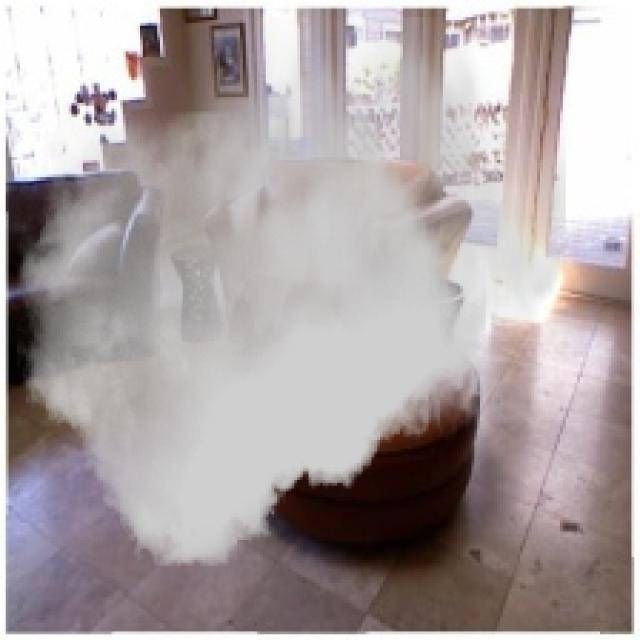smoke: (17, 17, 566, 566)
